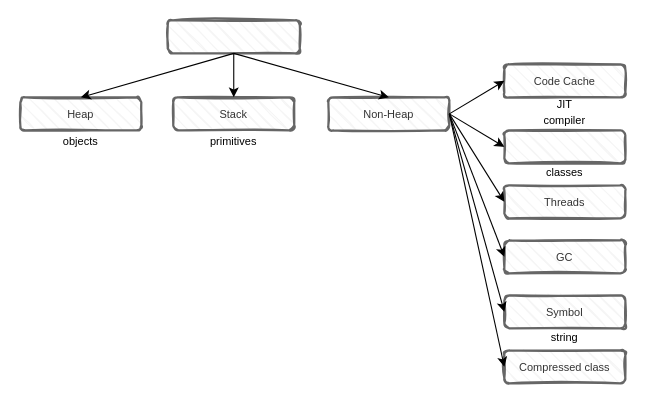
This 645x403 diagram has some shape labels left out. Here are the shapes that lost their labels. From the top down, the box of each, then its label:
(166, 19, 300, 54): Java Memory Model
(503, 129, 626, 164): Metaspace
